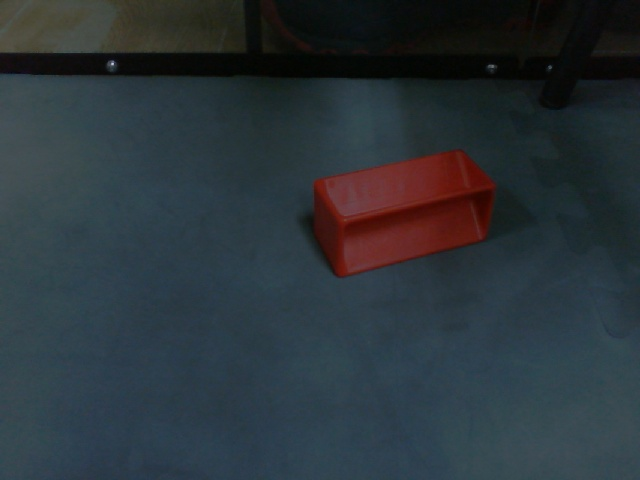RedSample: (310, 146, 499, 280)
